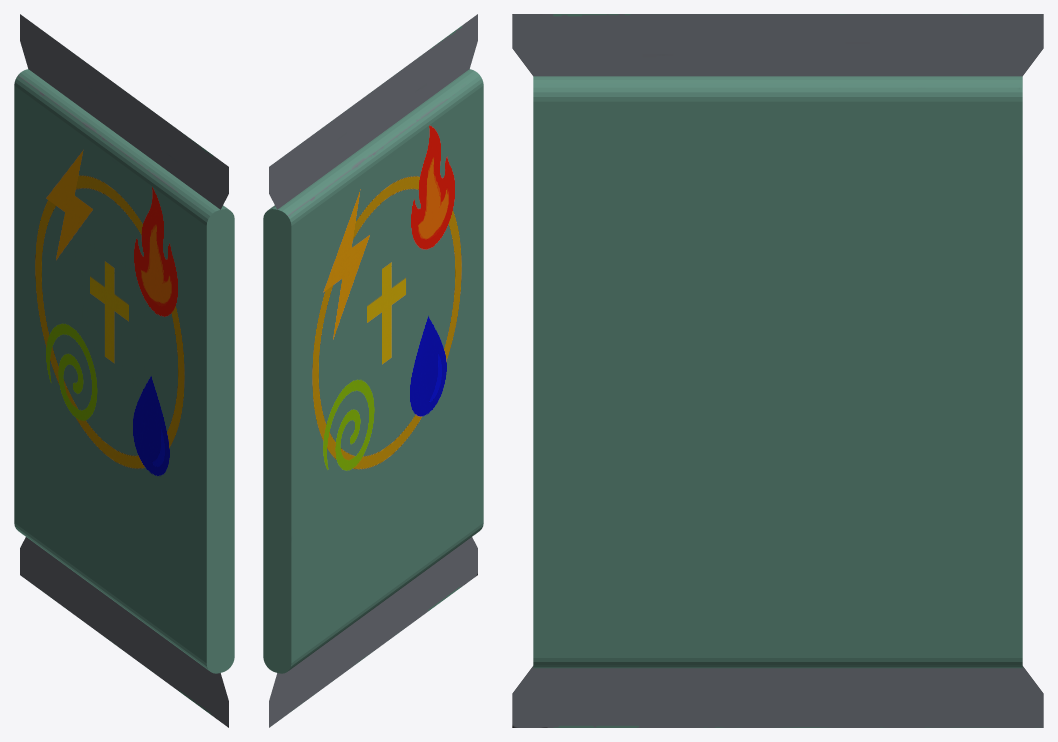
The model's file is booster_pack_remake.fbx.
The picture shows the model from 3 angles, left to right: view 1: azimuth 30°, elevation 25°; view 2: azimuth 150°, elevation 25°; view 3: azimuth 270°, elevation 25°; orthographic projection. The views are drawn at different scales.
Parts seen in each view (by area): view 1: Plane.002; view 2: Plane.002; view 3: Plane.002.
Boxes of the visible parts, x1,y1,x2,y2 form: Plane.002: (14, 14, 234, 727); Plane.002: (263, 14, 483, 727); Plane.002: (512, 14, 1043, 727).
Bounding box in the file's own units: 10.45 × 200 × 135.
